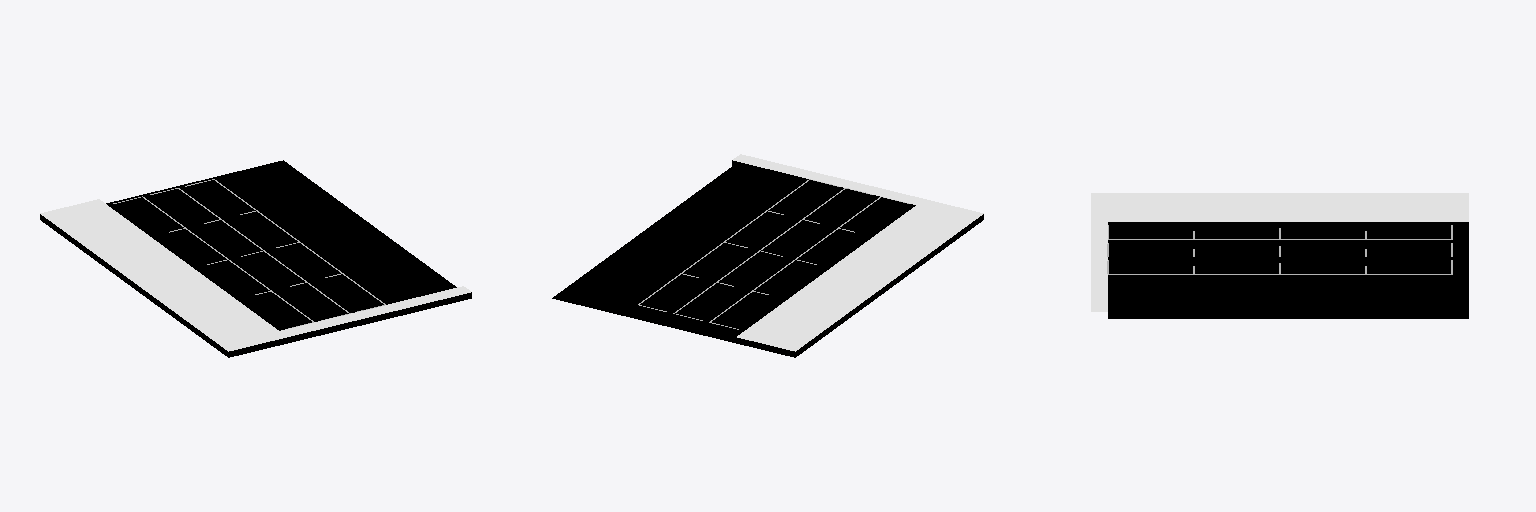
The model's file is ParameterUI_Base.obj.
3 views of the same model, side by side, from view 1: azimuth 30°, elevation 25°; view 2: azimuth 150°, elevation 25°; view 3: azimuth 270°, elevation 25° (orthographic).
Visible parts, largest first — view 1: Plane; view 2: Plane; view 3: Plane.
Part boxes in pixels (bbox=[...]): Plane: bbox=[40, 160, 471, 357]; Plane: bbox=[552, 154, 983, 357]; Plane: bbox=[1091, 193, 1468, 318].
Size of the model in its own units: 4.1 by 0.1 by 5.5.